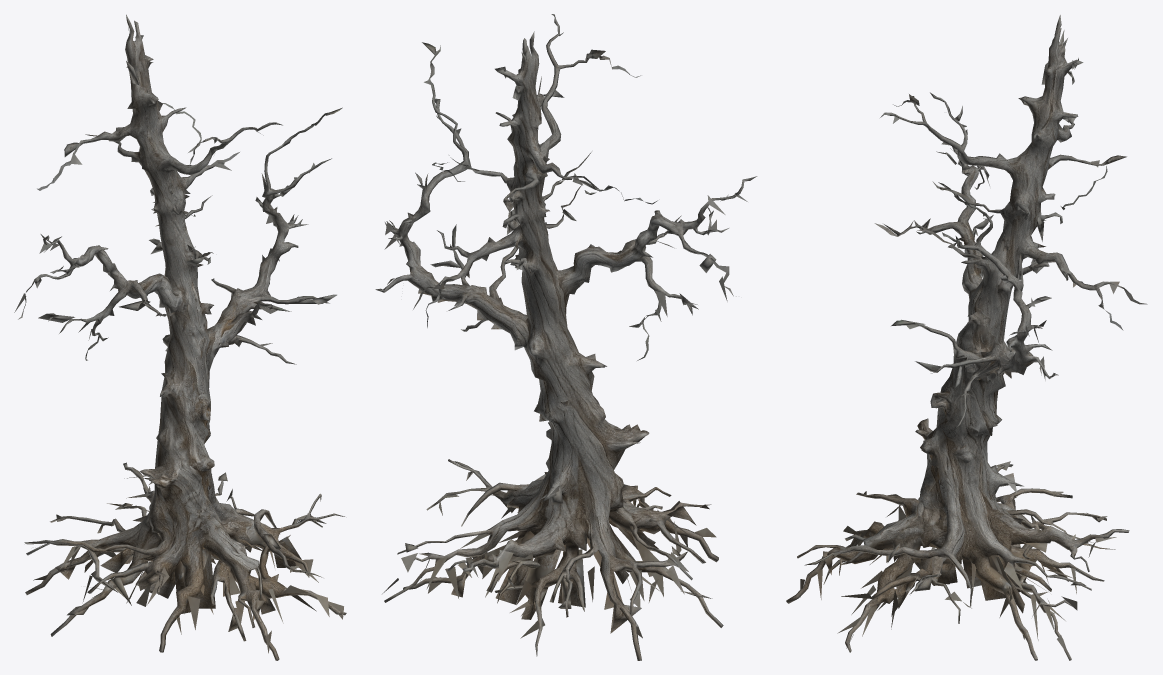
The model's file is nat-deadtree-a_optimized.glb.
3 renders of one model, left to right at view 1: azimuth 30°, elevation 25°; view 2: azimuth 150°, elevation 25°; view 3: azimuth 270°, elevation 25°, orthographic. The views are drawn at different scales.
Parts seen in each view (by area): view 1: Mesh_0; view 2: Mesh_0; view 3: Mesh_0.
Boxes of the visible parts, x1,y1,x2,y2 form: Mesh_0: (14,14,346,660); Mesh_0: (375,14,757,660); Mesh_0: (786,15,1147,660).
Bounding box in the file's own units: 0.5566 × 0.9531 × 0.5391.
Materials: 1 (1 with a texture image).
